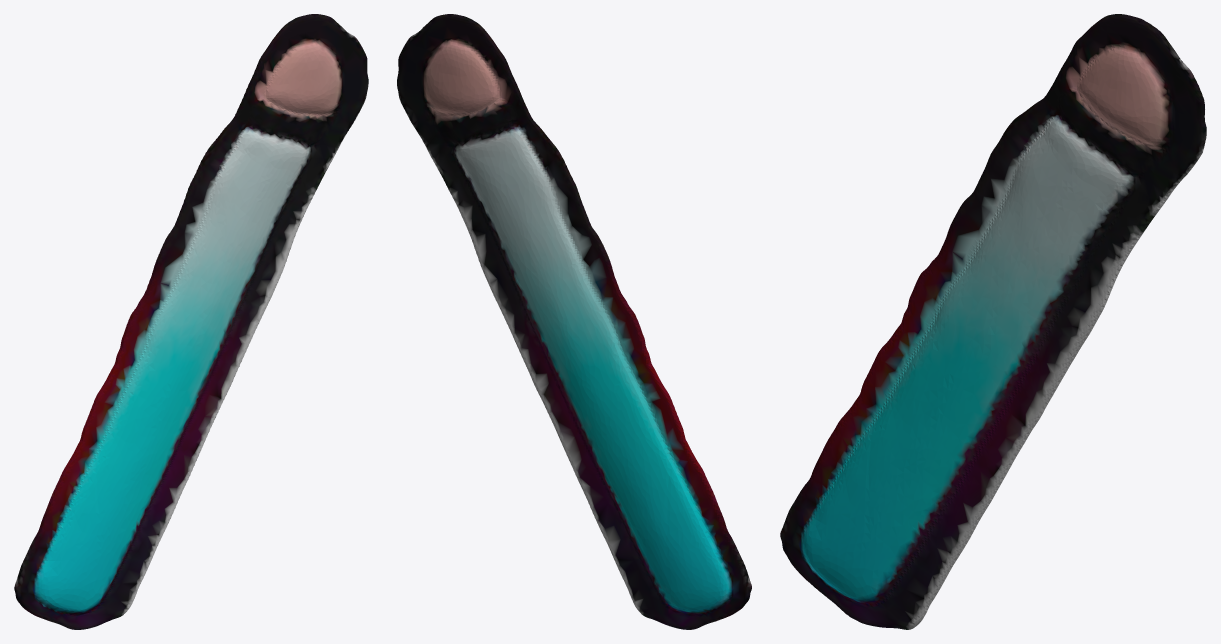
Rendered from vial_cyan.glb.
3 renders of one model, left to right at view 1: azimuth 30°, elevation 25°; view 2: azimuth 150°, elevation 25°; view 3: azimuth 330°, elevation 25°, orthographic. The views are drawn at different scales.
Parts seen in each view (by area): view 1: geometry_0; view 2: geometry_0; view 3: geometry_0.
Boxes of the visible parts, x1,y1,x2,y2 form: geometry_0: (14, 14, 368, 629); geometry_0: (397, 14, 751, 629); geometry_0: (780, 14, 1206, 629).
Bounding box in the file's own units: 0.3438 × 0.5194 × 0.0236.
